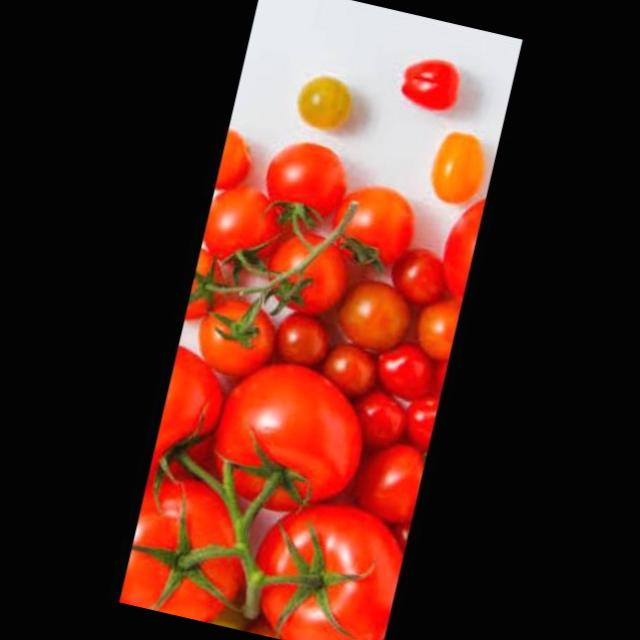Tomato: (194, 344, 374, 530), (221, 477, 410, 640), (117, 470, 260, 628), (252, 127, 362, 245), (147, 349, 236, 488), (320, 164, 425, 275), (322, 266, 421, 364), (259, 225, 350, 324), (196, 176, 286, 276), (179, 290, 273, 385), (341, 430, 426, 531), (420, 180, 486, 308), (284, 52, 373, 140), (384, 41, 474, 124), (420, 123, 496, 214), (334, 378, 415, 451), (380, 238, 452, 312), (316, 335, 389, 402), (272, 306, 340, 372), (366, 341, 436, 403), (183, 246, 235, 325), (214, 118, 267, 194), (403, 296, 458, 360), (396, 387, 439, 447)
